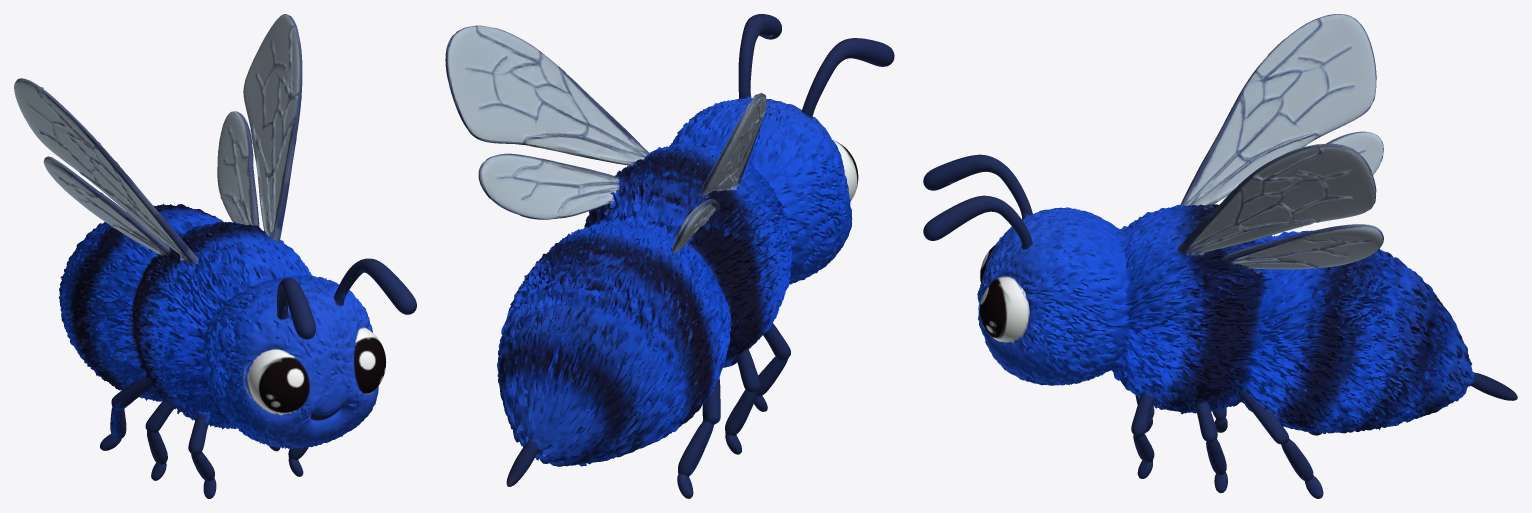
File: Meshy_AI_Crear_un_modelo_3D_de_0925233536_texture.fbx
The picture shows the model from 3 angles, left to right: view 1: azimuth 30°, elevation 25°; view 2: azimuth 150°, elevation 25°; view 3: azimuth 270°, elevation 25°; orthographic projection. The views are drawn at different scales.
Visible parts, largest first — view 1: output; view 2: output; view 3: output.
Boxes of the visible parts, x1,y1,x2,y2 form: output: [14, 14, 416, 498]; output: [445, 14, 894, 498]; output: [923, 14, 1517, 498].
Size of the model in its own units: 8.87 by 12 by 16.68.
Materials: 1 (1 with a texture image).
